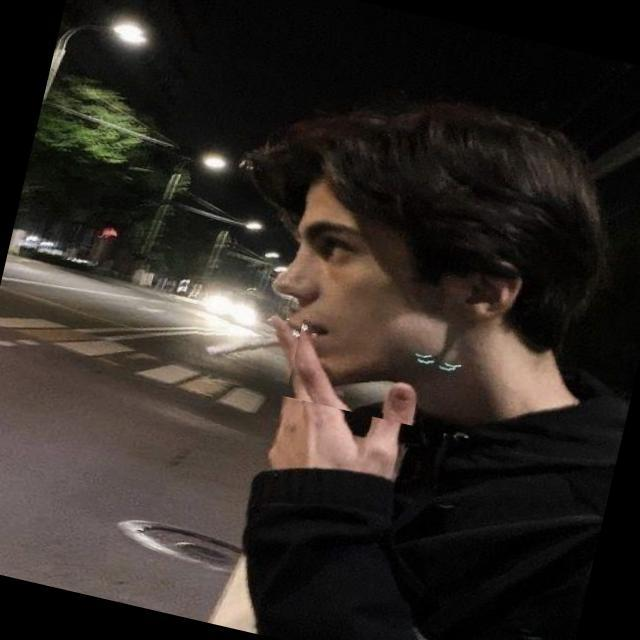cigarette: (185, 280, 307, 384)
